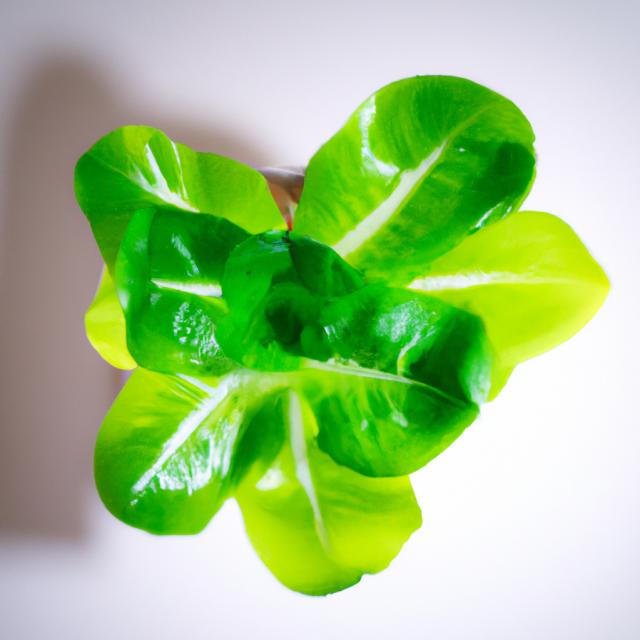-N: (65, 64, 616, 611)
